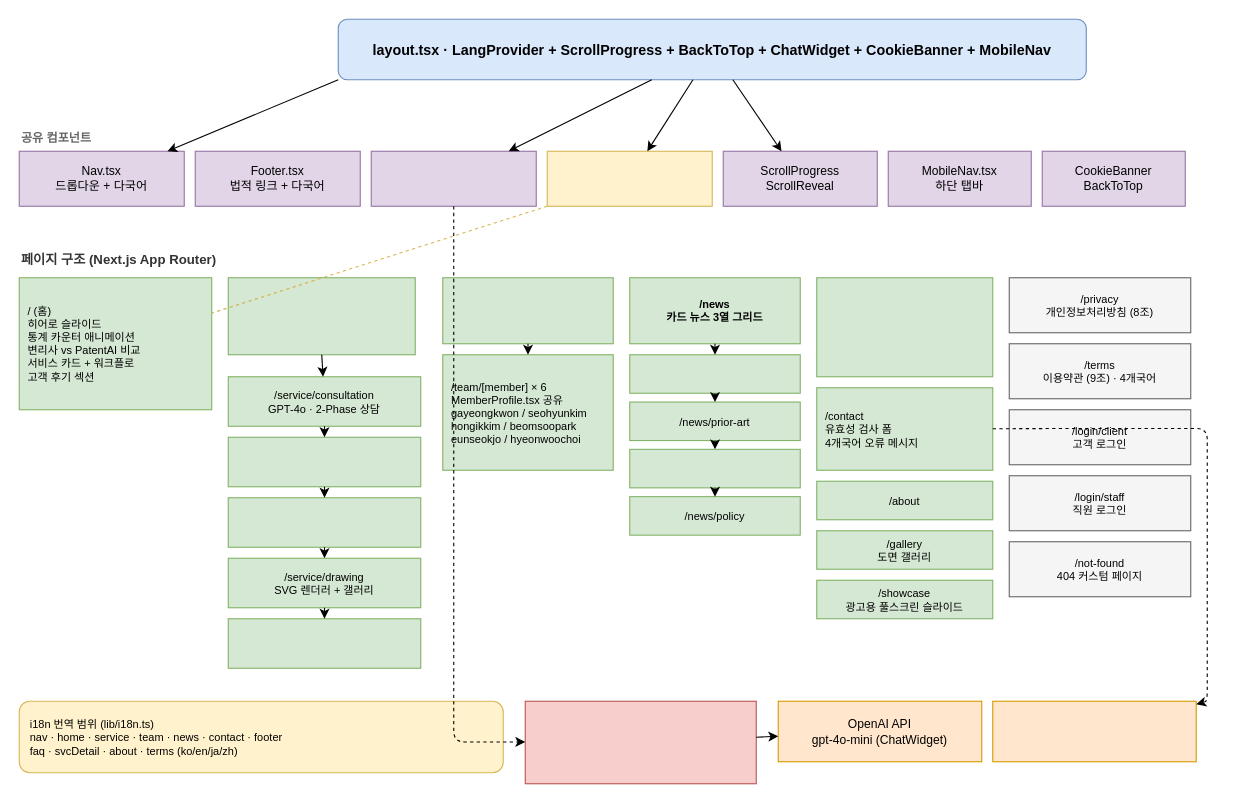
Some shapes in this 1235 by 803 pixel diagram are drawn without their labels. The shapes that lost their labels are listed below. From the top down, each one's centre as x and y in pixels, then its label:
At (x=453, y=178): "ChatWidget.tsx GPT-4o-mini 챗봇".
At (x=629, y=178): "LangContext ko / en / ja / zh".
At (x=321, y=316): "/service 파이프라인 바 + 탭 UI 5개 에이전트 상세".
At (x=527, y=310): "/team 구성원 카드 그리드".
At (x=904, y=327): "/faq 114개 Q&A 카테고리 사이드바 실시간 검색 + 다국어".
At (x=714, y=373): "/news/ai-patent".
At (x=324, y=461): "/service/prior-art 벡터 검색 · RRF".
At (x=714, y=468): "/news/classification".
At (x=324, y=522): "/service/specification EXAONE sLLM · RunPod".
At (x=324, y=643): "/service/review 발설 에이전트 (gpt-4o-mini)".
At (x=640, y=742): "/api/chat/route.ts POST → GPT-4o-mini max_tokens:400 · temp:0.4 키워드 → 페이지 링크 안내".
At (x=1094, y=731): "Supabase PostgreSQL 상담 데이터 저장".
